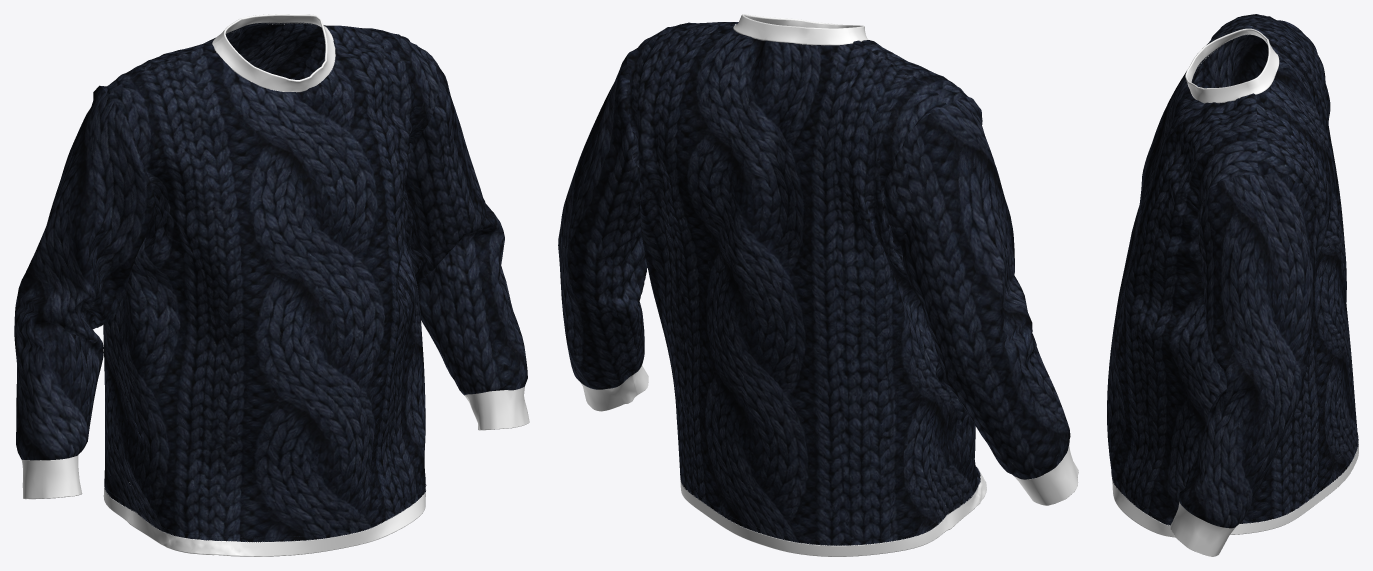
Rendered from knit.glb.
The picture shows the model from 3 angles, left to right: view 1: azimuth 30°, elevation 25°; view 2: azimuth 150°, elevation 25°; view 3: azimuth 270°, elevation 25°; orthographic projection. The views are drawn at different scales.
Parts seen in each view (by area): view 1: knit | M; view 2: knit | M; view 3: knit | M.
Part boxes in pixels (x1,y1,x2,y2): knit | M: (14, 14, 529, 556); knit | M: (558, 14, 1078, 556); knit | M: (1107, 14, 1358, 556).
Size of the model in its own units: 3.2 by 2.99 by 1.55.
2 materials, 1 textured.
